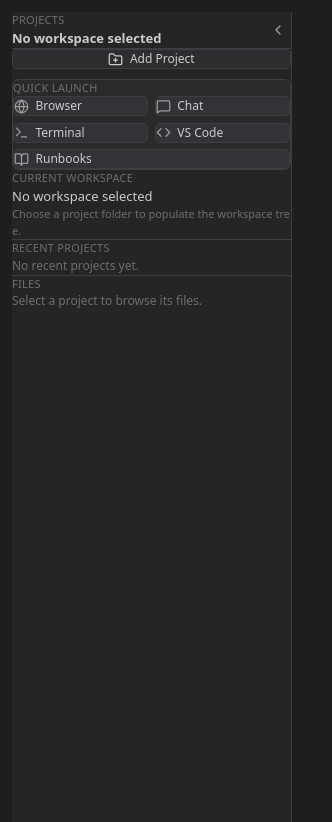
Scenario: ProjectSidebar › collapses the sidebar and stores the collapsed state
The image size is (332, 822).
Click the button named "Collapse project sidebar": (278, 30) [265,17,291,43]
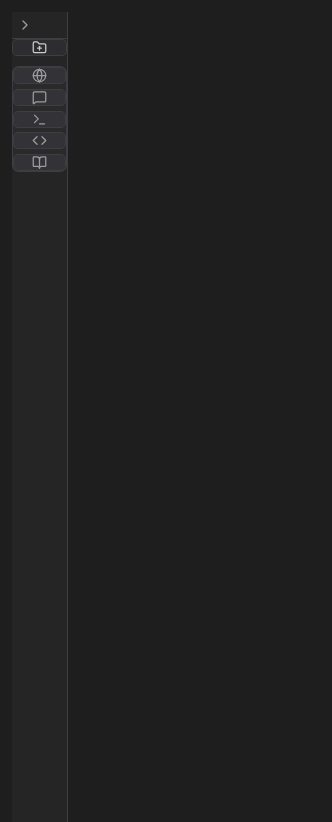
Expected: the text "Current Workspace" is gone
